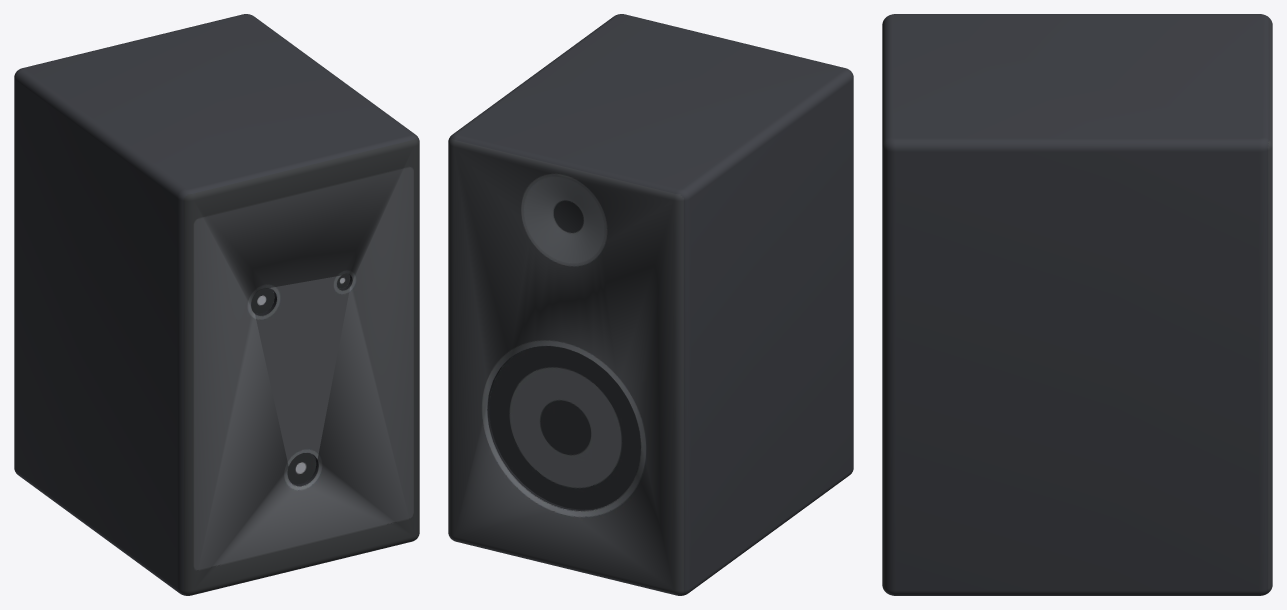
File: jbl-305p-mkii.glb
The picture shows the model from 3 angles, left to right: view 1: azimuth 30°, elevation 25°; view 2: azimuth 150°, elevation 25°; view 3: azimuth 270°, elevation 25°; orthographic projection. The views are drawn at different scales.
Parts seen in each view (by area): view 1: jbl-305p-mkii-body; view 2: jbl-305p-mkii-body; view 3: jbl-305p-mkii-body.
Part boxes in pixels (bbox=[...]): jbl-305p-mkii-body: bbox=[14, 14, 419, 595]; jbl-305p-mkii-body: bbox=[448, 14, 853, 595]; jbl-305p-mkii-body: bbox=[882, 14, 1272, 595].
Bounding box in the file's own units: 0.185 × 0.298 × 0.231.
1 material, 1 textured.
